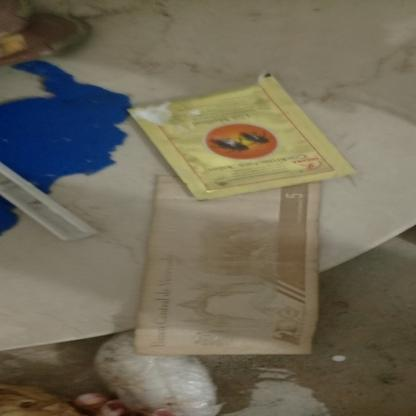five-back-vef: (132, 175, 320, 355)
